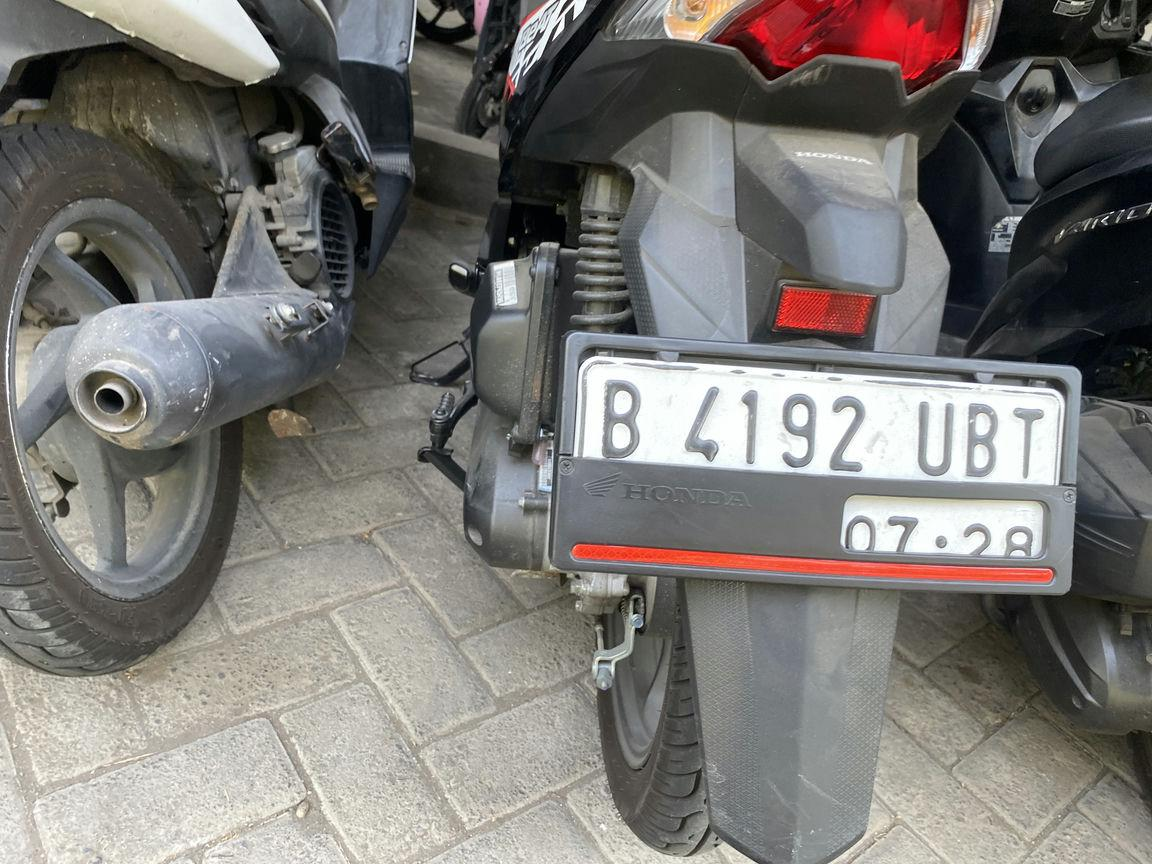plat: (549, 333, 1080, 594)
